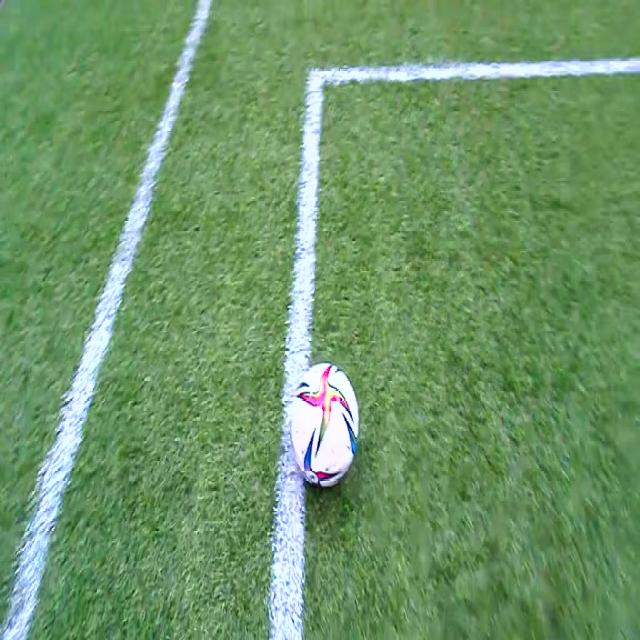ball: (290, 362, 359, 485)
